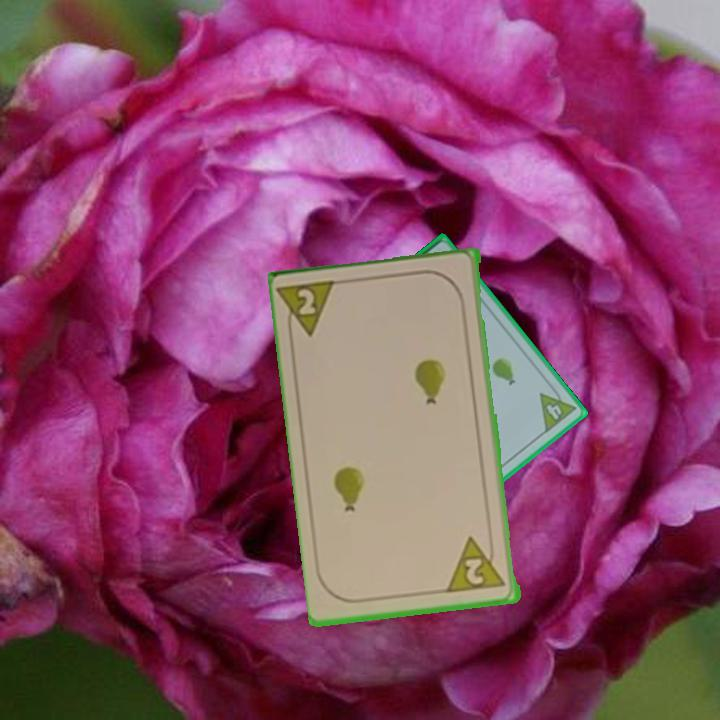2p: (277, 277, 342, 343), (446, 532, 509, 596)
4p: (536, 381, 579, 436)
